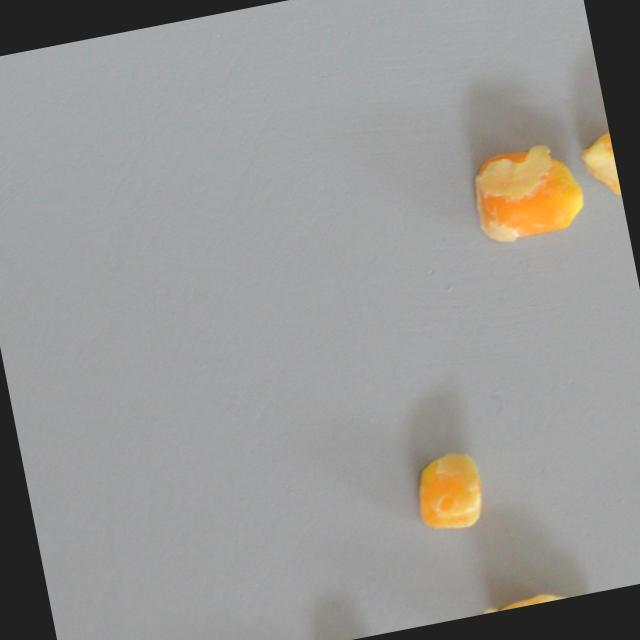pelicula: (377, 431, 525, 560), (455, 130, 603, 259), (470, 553, 605, 615), (555, 113, 626, 227)
